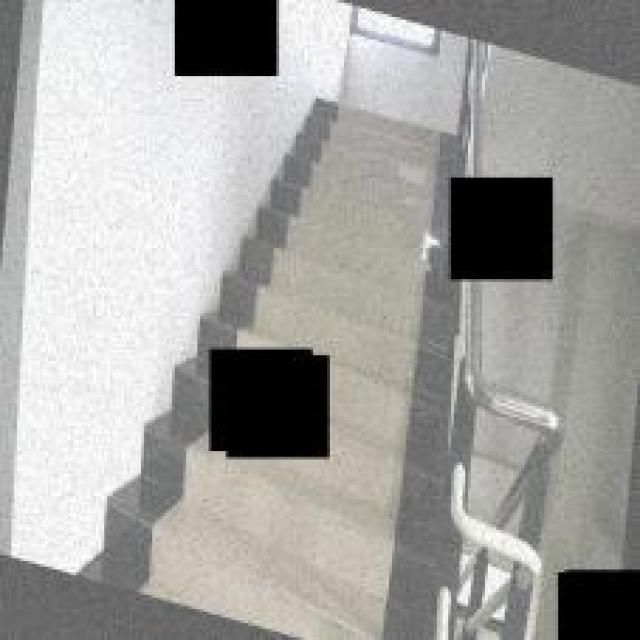upstair: (309, 111, 447, 353)
